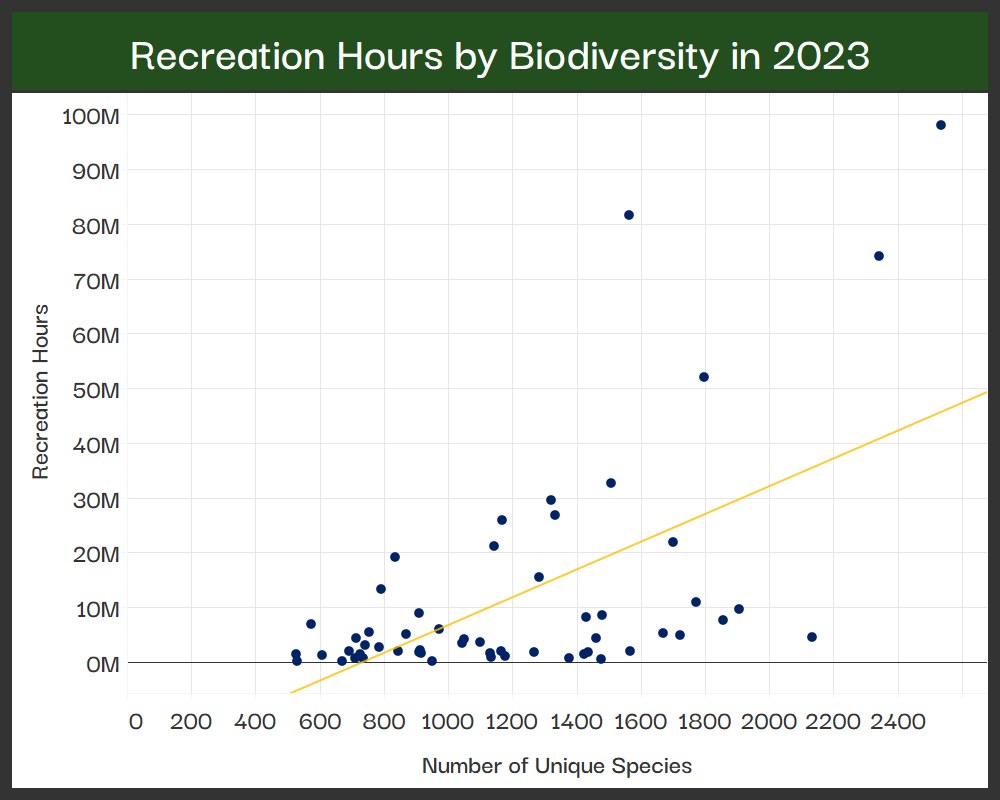

The dashboard page shown, as its layout file describes it:
{"tool":"tableau","page":{"name":"RH by Biodiversity","canvas":[1000,800],"ordinal":0},"visuals":[{"type":"worksheet","title":"Recreation Hours by Biodiversity in 2023","mark":"Shape","rows":["RecreationHours"],"cols":["total_species"],"box":[8,8,984,784]}]}

Visuals, with their boxes in screenshot pixels (x1, y1, x2, y2), scaled from the page's 1000x800 canvas onto the 1000x800 screenshot:
"Recreation Hours by Biodiversity in 2023" worksheet (Shape marks): 8/8/992/792
